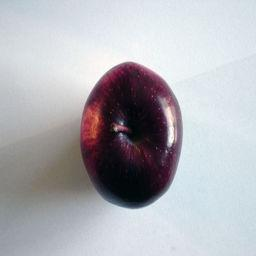apple: (77, 59, 183, 212)
